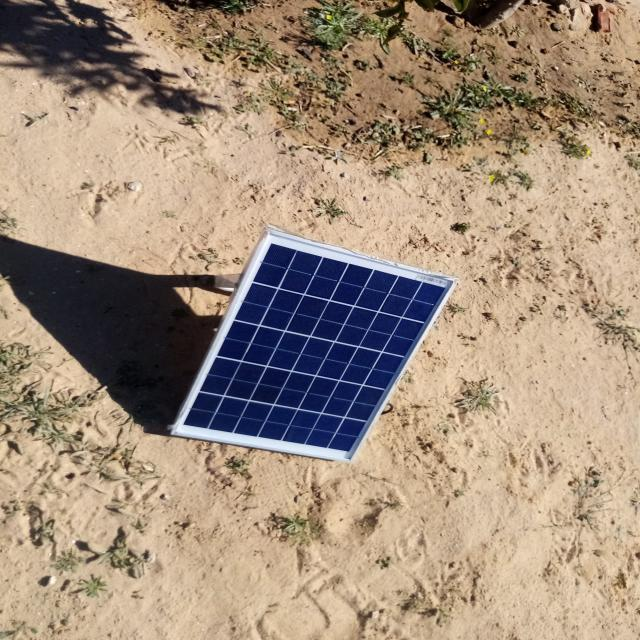Normal Solar Panel: (172, 232, 457, 462)
